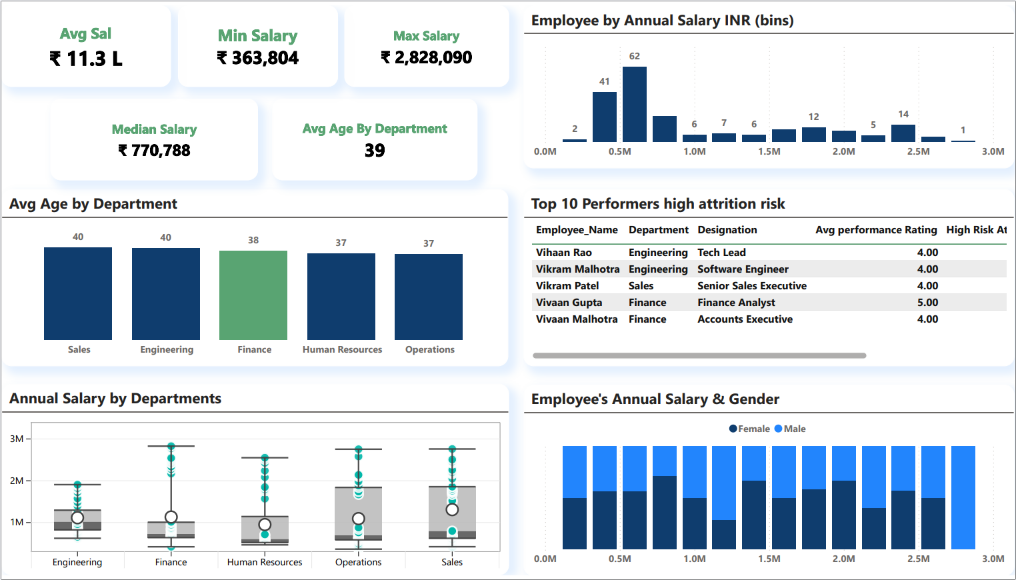

What the dashboard file says about the page in this screenshot:
{"tool":"powerbi","page":{"name":"Performance analysis","canvas":[1280,720],"ordinal":4},"visuals":[{"type":"clusteredColumnChart","fields":{"Y":["All meaures.Avg Age"],"Category":["HR_Data.Department"]},"box":[0,232,639.7,224],"z":0},{"type":"cardVisual","fields":{"Data":["All meaures.Avg Sal Div"]},"box":[0,0,213.6,103],"z":1000},{"type":"cardVisual","fields":{"Data":["All meaures.Min Salary"]},"box":[222.7,0,201.5,103],"z":2000},{"type":"cardVisual","fields":{"Data":["All meaures.Median Salary"]},"box":[62.1,118.2,262.1,103],"z":3000},{"type":"cardVisual","fields":{"Data":["All meaures.Max Salary"]},"box":[433.3,0,207.6,103],"z":4000},{"type":"clusteredColumnChart","title":"Employee by Annual Salary INR (bins)","fields":{"Category":["HR_Data.Annual_Salary_INR (bins)"],"Y":["CountNonNull(HR_Data.Employee_ID)"]},"box":[658.7,0,620.3,205.8],"z":5000},{"type":"hundredPercentStackedColumnChart","title":"Employee''s Annual Salary & Gender","fields":{"Series":["HR_Data.Gender"],"Y":["CountNonNull(HR_Data.Employee_ID)"],"Category":["HR_Data.Annual_Salary_INR (bins) 3"]},"box":[659.1,478.6,620.4,241.7],"z":6000},{"type":"tableEx","title":"Top 10 Performers high attrition risk","fields":{"Values":["HR_Data.Employee_Name","HR_Data.Department","HR_Data.Designation","All meaures.Avg performance Rating","All meaures.High Risk Attrition Rate","CountNonNull(HR_Data.Job_Satisfaction)"]},"box":[658.7,231.9,620.3,223.7],"z":7000},{"type":"cardVisual","fields":{"Data":["All meaures.Avg Age By Department"]},"box":[342.4,118.2,259.1,103],"z":8000},{"type":"BoxandWhiskerByMAQ1823AD39DT234AB532063E128AX","title":"Annual Salary by Departments","fields":{"categoryGroup":["HR_Data.Department"],"category":["HR_Data.Annual_Salary_INR"],"measure":["Avg(HR_Data.Annual_Salary_INR)"]},"box":[0,478.3,640.6,241.7],"z":9000}]}

Visuals, with their boxes in screenshot pixels (x1, y1, x2, y2), scaled from the page's 1280x720 canvas onto the 1016x580 screenshot:
clusteredColumnChart - All meaures.Avg Age x HR_Data.Department: pyautogui.locateOnScreen(0, 187, 508, 367)
cardVisual - All meaures.Avg Sal Div: pyautogui.locateOnScreen(0, 0, 170, 83)
cardVisual - All meaures.Min Salary: pyautogui.locateOnScreen(177, 0, 337, 83)
cardVisual - All meaures.Median Salary: pyautogui.locateOnScreen(49, 95, 257, 178)
cardVisual - All meaures.Max Salary: pyautogui.locateOnScreen(344, 0, 509, 83)
"Employee by Annual Salary INR (bins)" clusteredColumnChart: pyautogui.locateOnScreen(523, 0, 1015, 166)
"Employee''s Annual Salary & Gender" hundredPercentStackedColumnChart: pyautogui.locateOnScreen(523, 386, 1015, 579)
"Top 10 Performers high attrition risk" tableEx: pyautogui.locateOnScreen(523, 187, 1015, 367)
cardVisual - All meaures.Avg Age By Department: pyautogui.locateOnScreen(272, 95, 477, 178)
"Annual Salary by Departments" BoxandWhiskerByMAQ1823AD39DT234AB532063E128AX: pyautogui.locateOnScreen(0, 385, 508, 579)
